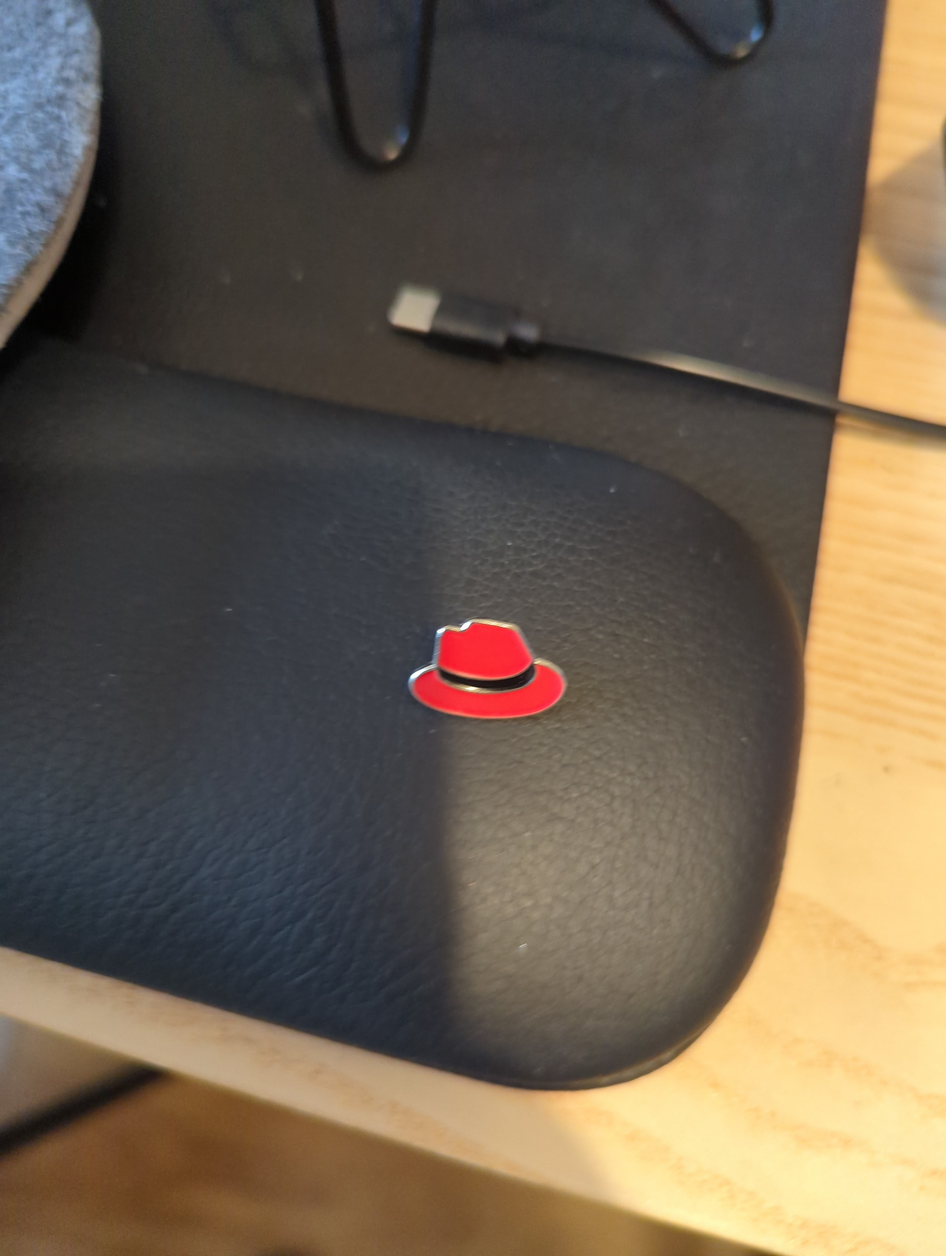Red-Hat: (365, 561, 642, 808)
